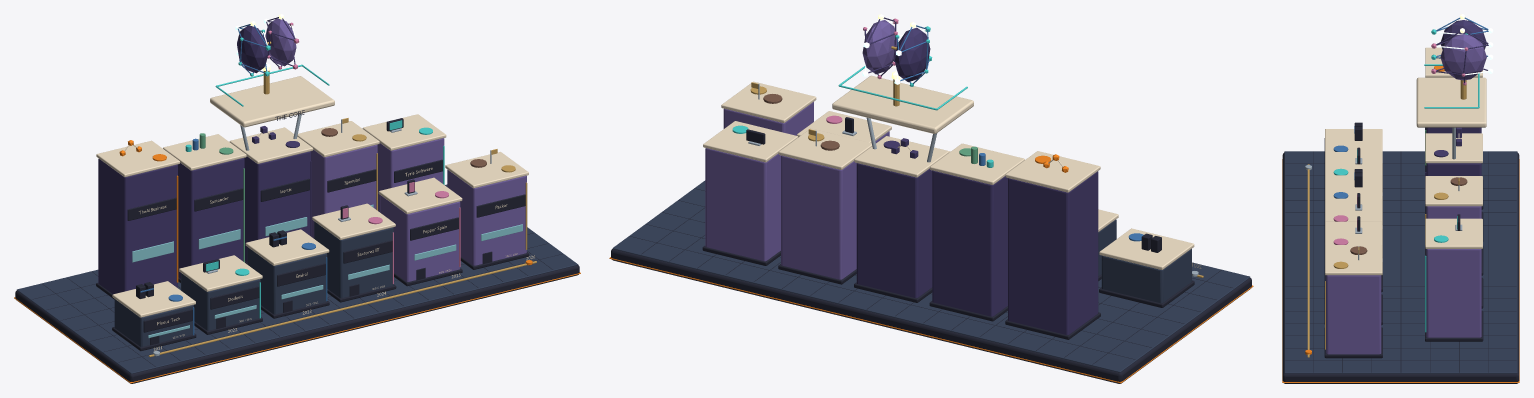
File: career.glb
The picture shows the model from 3 angles, left to right: view 1: azimuth 30°, elevation 25°; view 2: azimuth 150°, elevation 25°; view 3: azimuth 270°, elevation 25°; orthographic projection. The views are drawn at different scales.
Parts seen in each view (by area): view 1: Satin floor.001, Career_11_Tower, Foundation.001, Career_10_Tower, Career_06_Tower, Career_09_Tower, Career_05_Tower, Career_CoreDeck, Career_08_Tower, Career_04_Tower, Career_03_Tower, Career_07_Tower (+30 smaller); view 2: Satin floor.001, Career_11_Tower, Career_10_Tower, Career_09_Tower, Career_08_Tower, Career_07_Tower, Foundation.001, Career_CoreDeck, Career_01_Tower, Career_11_Roof, Career_06_Roof, Career_08_Roof (+9 smaller); view 3: Satin floor.001, Career_07_Tower, Career_06_Tower, Foundation.001, Career_CoreDeck, Career_07_Roof, Career_08_Roof, Career_06_Roof, Career_Hemisphere_Right, Career_09_Roof, Career_05_Roof, Career_04_Roof (+16 smaller).
Boxes of the visible parts, left/top/right/bottom form: Satin floor.001: left=17, top=184, right=578, bottom=373; Career_11_Tower: left=98, top=159, right=177, bottom=294; Foundation.001: left=15, top=265, right=579, bottom=383; Career_10_Tower: left=178, top=158, right=244, bottom=278; Career_06_Tower: left=447, top=169, right=526, bottom=265; Career_09_Tower: left=244, top=151, right=311, bottom=262; Career_05_Tower: left=380, top=195, right=460, bottom=281; Career_CoreDeck: left=210, top=76, right=334, bottom=127; Career_08_Tower: left=311, top=144, right=377, bottom=238; Career_04_Tower: left=314, top=221, right=393, bottom=298; Career_03_Tower: left=247, top=247, right=327, bottom=314; Career_07_Tower: left=377, top=138, right=444, bottom=212; Satin floor.001: left=612, top=180, right=1250, bottom=372; Career_11_Tower: left=1008, top=171, right=1098, bottom=334; Career_10_Tower: left=932, top=170, right=1007, bottom=316; Career_09_Tower: left=856, top=163, right=932, bottom=297; Career_08_Tower: left=781, top=155, right=856, bottom=279; Career_07_Tower: left=705, top=148, right=781, bottom=261; Foundation.001: left=611, top=249, right=1251, bottom=383; Career_CoreDeck: left=832, top=75, right=973, bottom=133; Career_01_Tower: left=1101, top=249, right=1191, bottom=303; Career_11_Roof: left=1005, top=151, right=1100, bottom=192; Career_06_Roof: left=721, top=81, right=816, bottom=122; Career_08_Roof: left=778, top=128, right=872, bottom=169; Satin floor.001: left=1284, top=151, right=1517, bottom=373; Career_07_Tower: left=1426, top=249, right=1481, bottom=337; Career_06_Tower: left=1326, top=275, right=1381, bottom=354; Foundation.001: left=1282, top=153, right=1519, bottom=383; Career_CoreDeck: left=1416, top=77, right=1486, bottom=127; Career_07_Roof: left=1425, top=218, right=1482, bottom=248; Career_08_Roof: left=1425, top=176, right=1482, bottom=206; Career_06_Roof: left=1325, top=245, right=1382, bottom=275; Career_Hemisphere_Right: left=1440, top=34, right=1486, bottom=80; Career_09_Roof: left=1425, top=133, right=1482, bottom=163; Career_05_Roof: left=1325, top=221, right=1382, bottom=244; Career_04_Roof: left=1325, top=198, right=1382, bottom=221.
Bounding box in the file's own units: 18.14 × 9.56 × 8.14.
